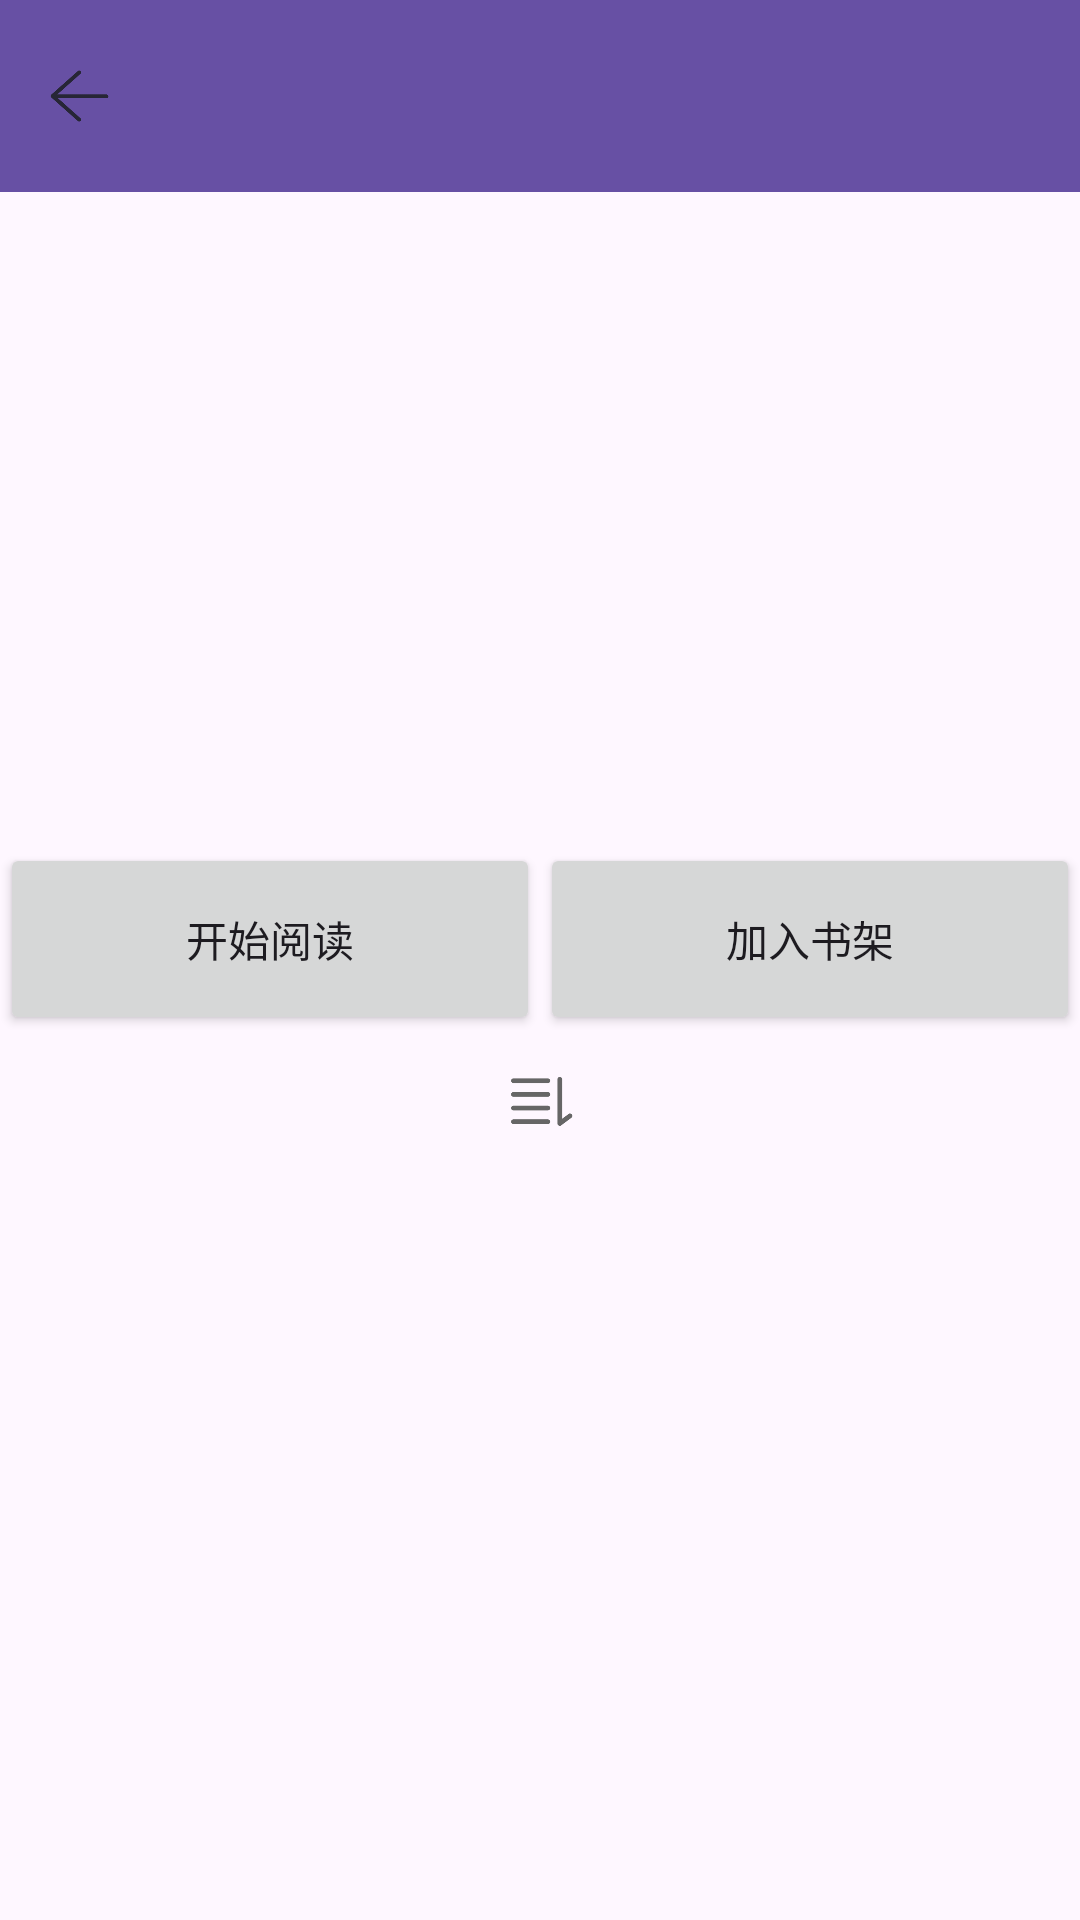

Screen size 1080*1920. Icon name, then its box in pixels as (x1, y1, x2, y2):
back: (51, 70, 109, 122)
back sort: (511, 1077, 573, 1126)
